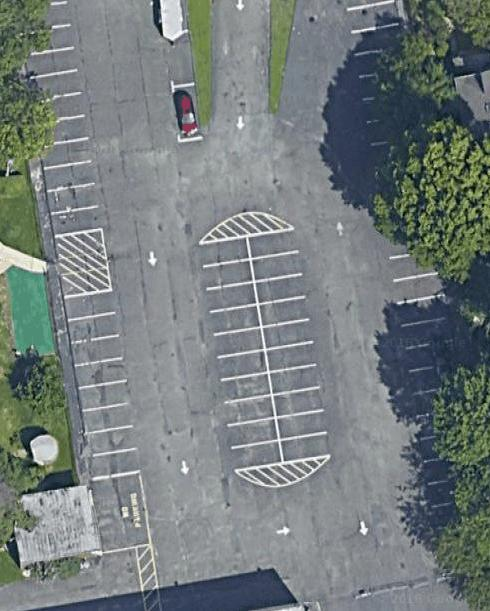parkingspot: (386, 253, 462, 546), (244, 226, 335, 465), (196, 234, 285, 473), (23, 0, 106, 239), (61, 287, 147, 482), (340, 0, 404, 174), (150, 0, 205, 144)
